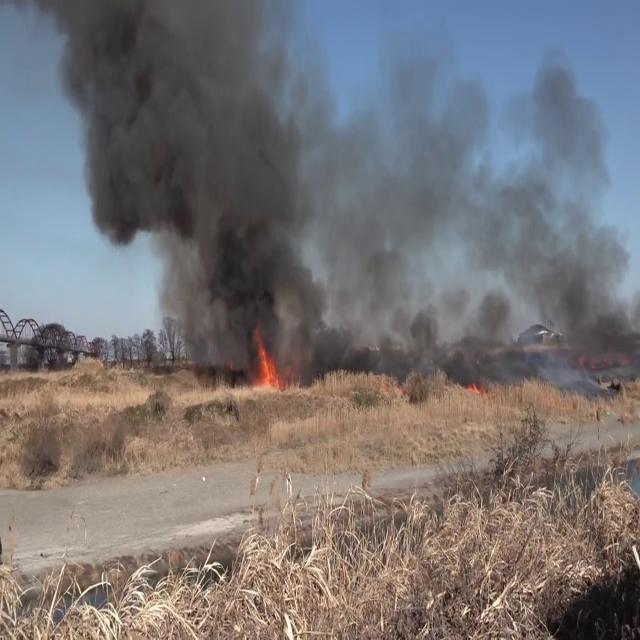Fire: (248, 324, 286, 396)
Smoke: (310, 39, 640, 373), (50, 0, 332, 358)
